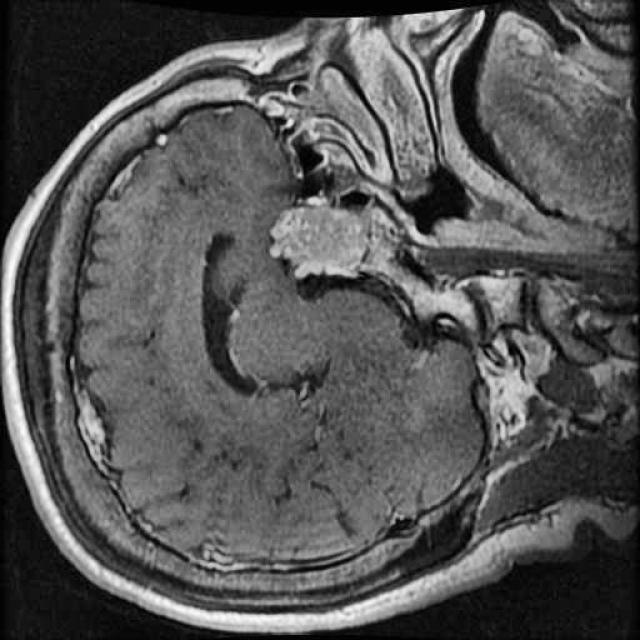Tumor: (258, 189, 374, 290)
